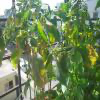Bell_pepper leaf spot: (71, 43, 99, 69), (31, 49, 46, 88), (37, 20, 53, 49), (45, 17, 61, 45), (39, 36, 49, 62), (10, 47, 21, 70), (87, 13, 94, 45), (14, 12, 25, 29), (23, 77, 31, 99), (70, 19, 80, 35), (57, 3, 68, 14), (0, 34, 6, 53), (15, 36, 23, 50), (30, 36, 40, 47), (55, 12, 67, 20)
